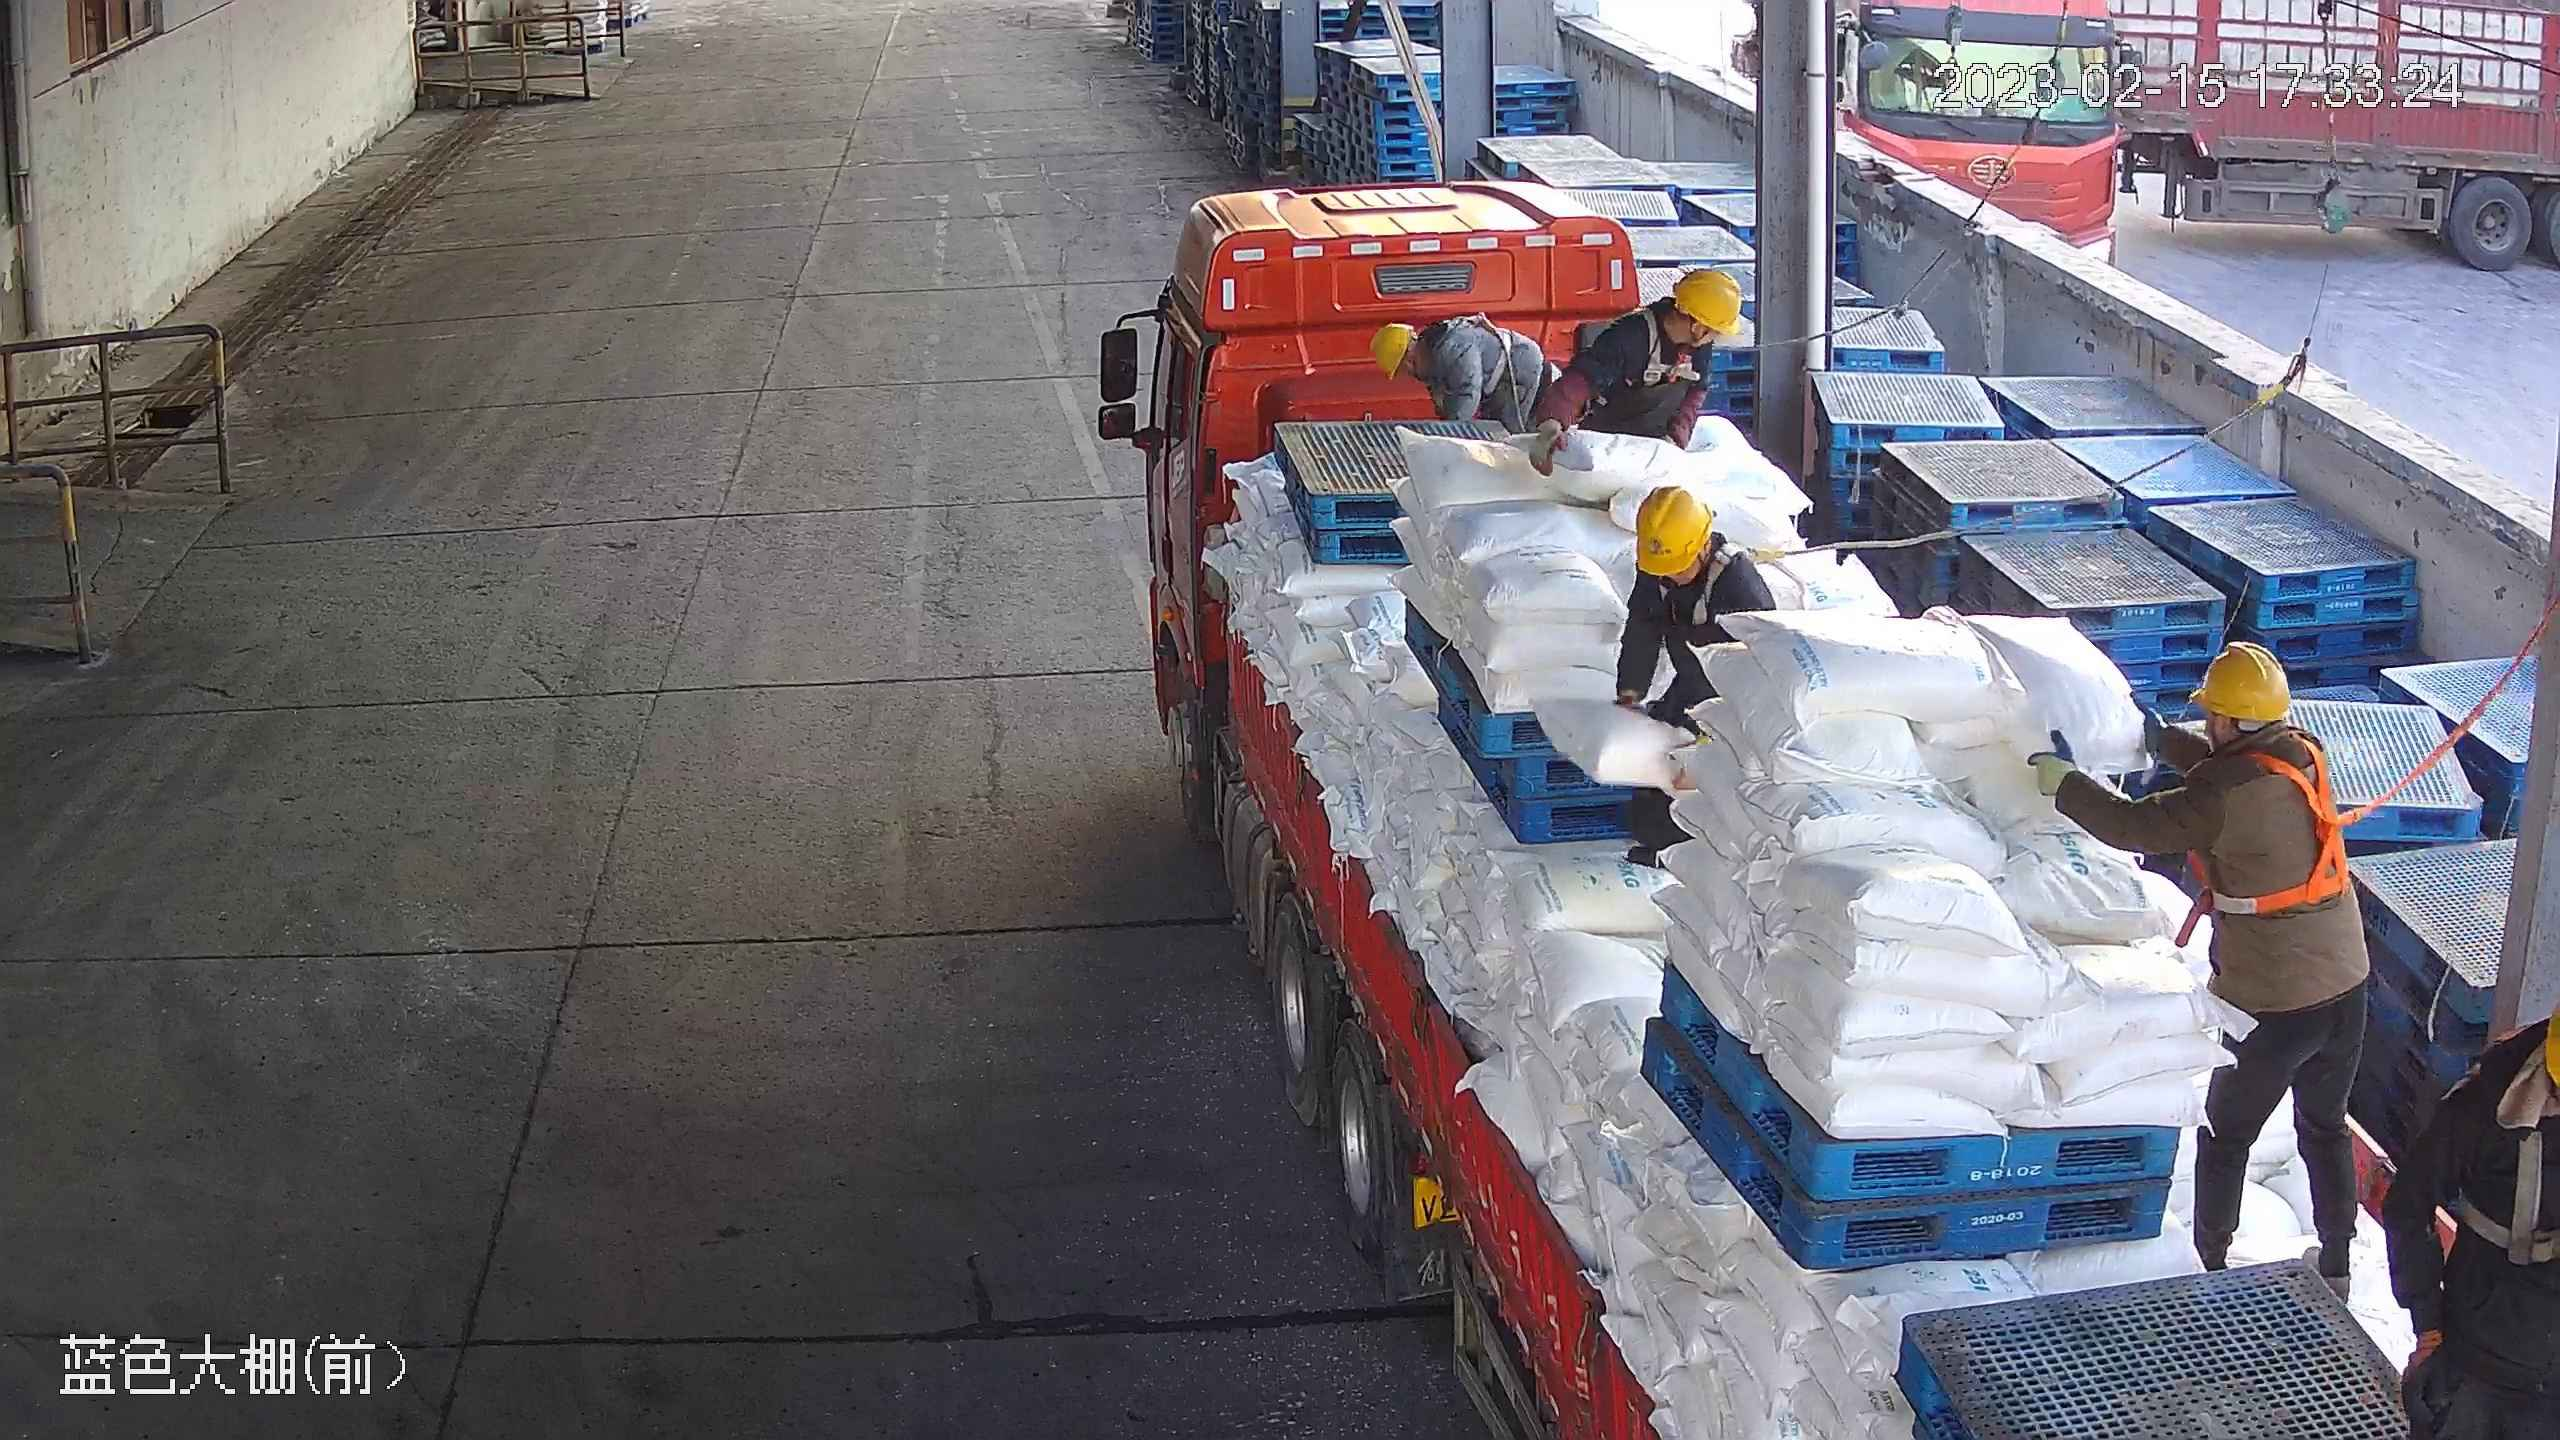belt: (2180, 728, 2392, 916), (1653, 540, 1790, 624), (1629, 305, 1727, 392), (1421, 313, 1514, 401)
head: (2176, 640, 2337, 801), (1595, 265, 1745, 366), (1635, 486, 1764, 599), (1366, 320, 1476, 382)
helmet: (2187, 639, 2294, 723), (1634, 486, 1720, 577), (1671, 268, 1744, 334), (1368, 322, 1416, 382)
people: (2027, 641, 2371, 1306), (1614, 484, 1773, 867), (1527, 267, 1742, 480), (1367, 315, 1559, 443)
truck: (1141, 182, 2560, 1440)
